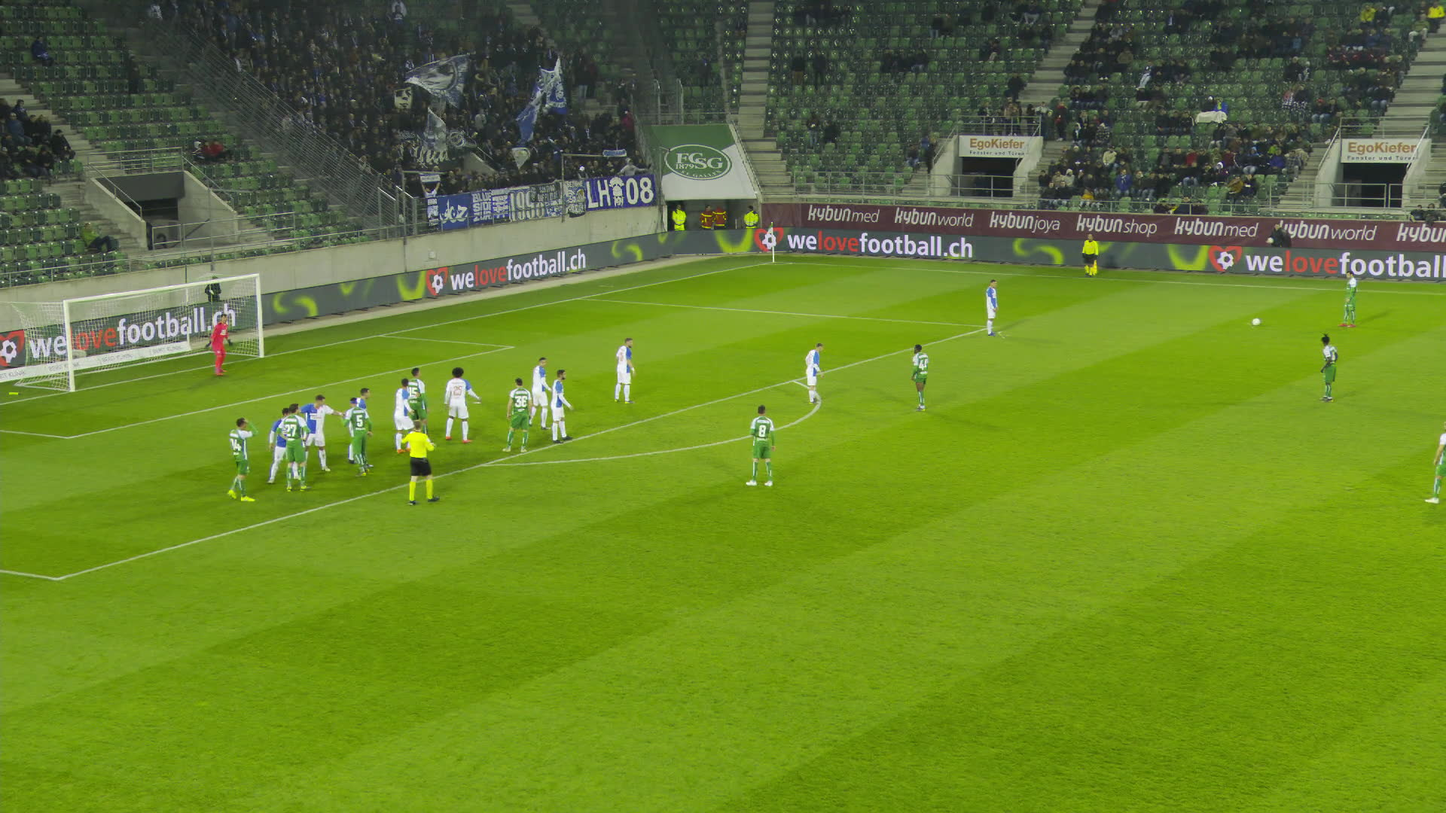ball: (1251, 318, 1259, 324)
player: (298, 394, 340, 470), (275, 403, 310, 490), (444, 367, 480, 442), (341, 397, 372, 476), (744, 406, 775, 484), (230, 417, 258, 502), (268, 406, 299, 482), (502, 377, 532, 452), (346, 386, 373, 466), (1422, 421, 1445, 502), (528, 357, 553, 429), (392, 376, 415, 452), (550, 368, 572, 443), (206, 312, 230, 376), (406, 367, 429, 432), (614, 337, 635, 403), (909, 344, 929, 410), (1338, 270, 1358, 326), (804, 342, 822, 403), (1319, 333, 1335, 401), (984, 279, 997, 334)
referee: (398, 421, 443, 504), (1079, 233, 1097, 276)
